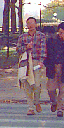person: (13, 19, 45, 111)
